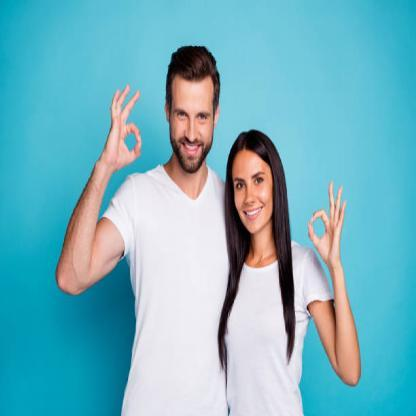ok: (306, 174, 348, 272), (107, 82, 144, 170)
